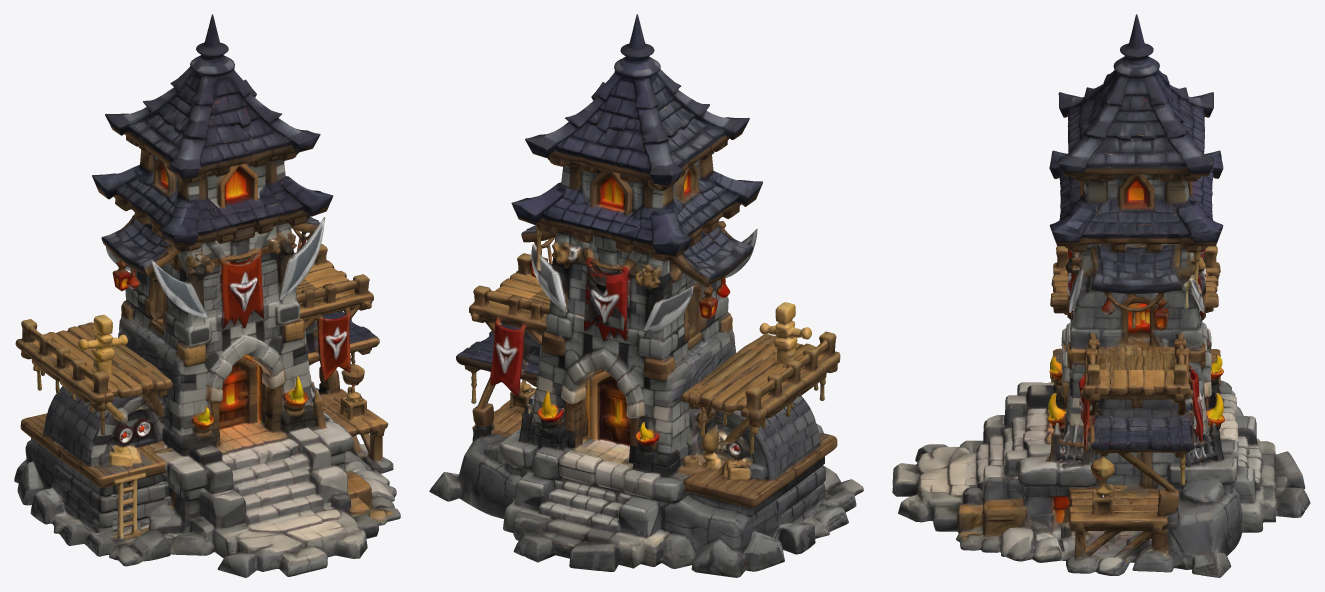
3 views of the same model, side by side, from view 1: azimuth 30°, elevation 25°; view 2: azimuth 150°, elevation 25°; view 3: azimuth 270°, elevation 25° (orthographic). The views are drawn at different scales.
Visible parts, largest first — view 1: Mesh1.0; view 2: Mesh1.0; view 3: Mesh1.0.
Boxes of the visible parts, bbox=[...] form: Mesh1.0: bbox=[14, 14, 400, 577]; Mesh1.0: bbox=[429, 14, 863, 577]; Mesh1.0: bbox=[892, 14, 1310, 577].
Size of the model in its own units: 1.49 by 2.01 by 1.57.
1 material, 1 textured.
